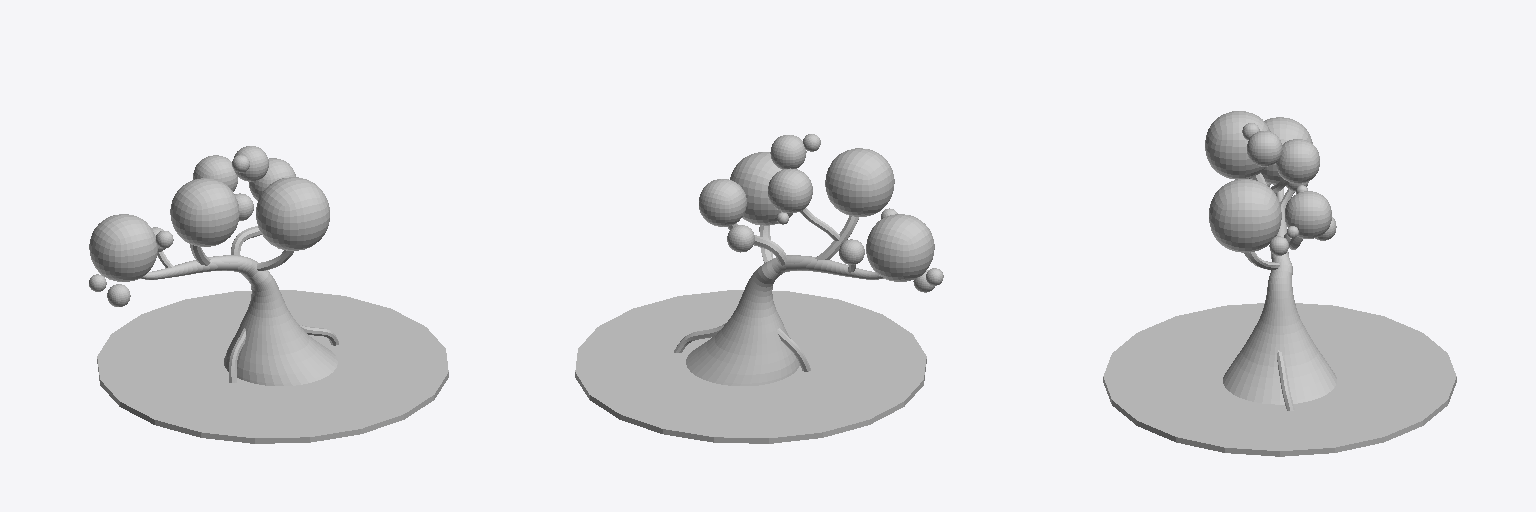
The model's file is bubbletree-01.obj.
3 views of the same model, side by side, from view 1: azimuth 30°, elevation 25°; view 2: azimuth 150°, elevation 25°; view 3: azimuth 270°, elevation 25° (orthographic).
Visible parts, largest first — view 1: bubbletree_01 polySurface2, bubbletree_01 polySurface4, bubbletree_01 polySurface5, bubbletree_01 polySurface16, bubbletree_01 polySurface8, bubbletree_01 polySurface14, bubbletree_01 polySurface11, bubbletree_01 polySurface13; view 2: bubbletree_01 polySurface2, bubbletree_01 polySurface4, bubbletree_01 polySurface16, bubbletree_01 polySurface8, bubbletree_01 polySurface5, bubbletree_01 polySurface13, bubbletree_01 polySurface14, bubbletree_01 polySurface11, bubbletree_01 polySurface17, bubbletree_01 polySurface15; view 3: bubbletree_01 polySurface2, bubbletree_01 polySurface4, bubbletree_01 polySurface5, bubbletree_01 polySurface16, bubbletree_01 polySurface13, bubbletree_01 polySurface14, bubbletree_01 polySurface8, bubbletree_01 polySurface11.
Boxes of the visible parts, <box> form: bubbletree_01 polySurface2: <box>97,290,448,443</box>; bubbletree_01 polySurface4: <box>140,255,337,385</box>; bubbletree_01 polySurface5: <box>256,177,329,250</box>; bubbletree_01 polySurface16: <box>170,178,239,246</box>; bubbletree_01 polySurface8: <box>89,214,157,281</box>; bubbletree_01 polySurface14: <box>193,155,237,191</box>; bubbletree_01 polySurface11: <box>234,146,268,181</box>; bubbletree_01 polySurface13: <box>249,158,295,200</box>; bubbletree_01 polySurface2: <box>575,290,926,443</box>; bubbletree_01 polySurface4: <box>686,255,883,385</box>; bubbletree_01 polySurface16: <box>825,148,894,216</box>; bubbletree_01 polySurface8: <box>866,214,934,281</box>; bubbletree_01 polySurface5: <box>730,152,797,225</box>; bubbletree_01 polySurface13: <box>699,179,746,226</box>; bubbletree_01 polySurface14: <box>768,168,812,212</box>; bubbletree_01 polySurface11: <box>770,135,806,169</box>; bubbletree_01 polySurface17: <box>727,225,754,252</box>; bubbletree_01 polySurface15: <box>839,239,864,264</box>; bubbletree_01 polySurface2: <box>1103,303,1456,456</box>; bubbletree_01 polySurface4: <box>1223,188,1336,404</box>; bubbletree_01 polySurface5: <box>1209,179,1281,252</box>; bubbletree_01 polySurface16: <box>1205,111,1270,179</box>; bubbletree_01 polySurface13: <box>1285,191,1331,238</box>; bubbletree_01 polySurface14: <box>1276,139,1319,183</box>; bubbletree_01 polySurface8: <box>1261,117,1312,184</box>; bubbletree_01 polySurface11: <box>1247,131,1281,166</box>.
Bounding box in the file's own units: 4.12 × 2.73 × 3.71.